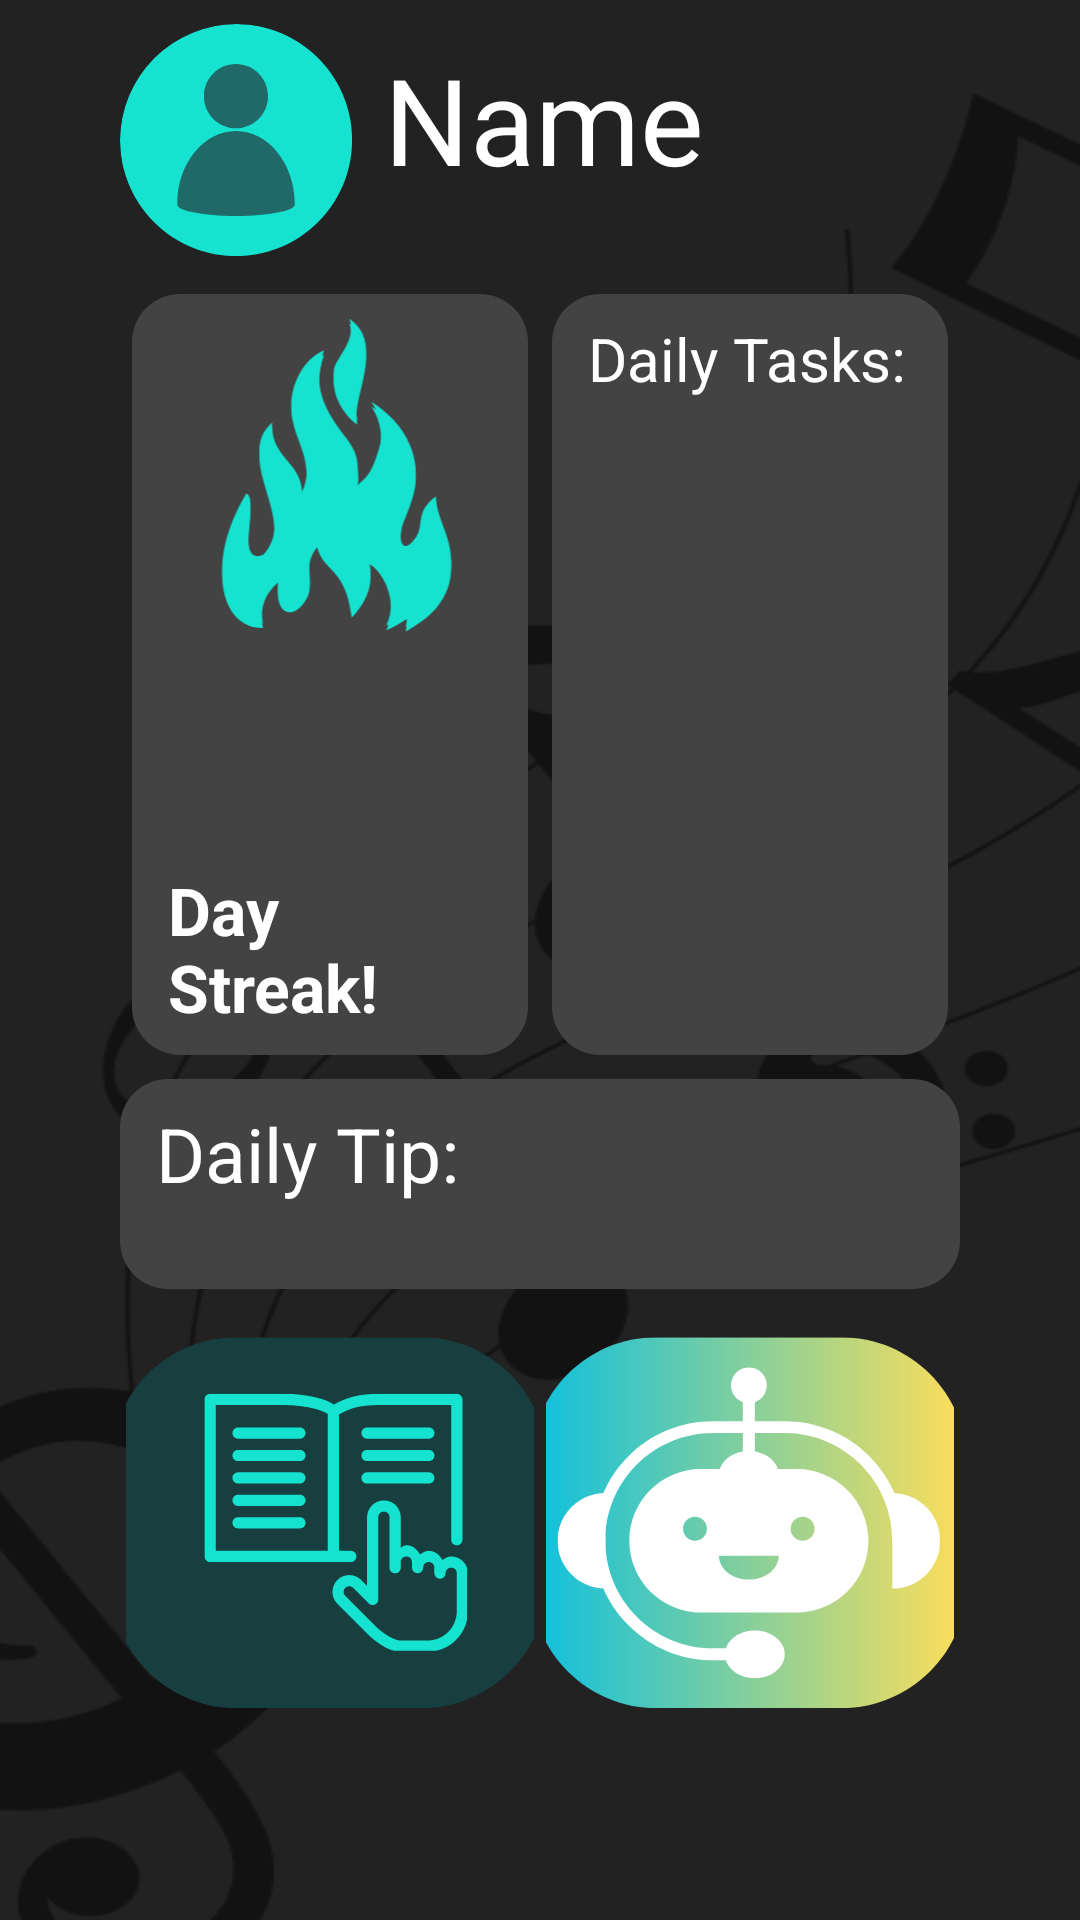

Screen size 1080 × 1920. Icon name, then its center in pixels as point (x, y):
fire: point (336, 475)
profile: point (236, 140)
